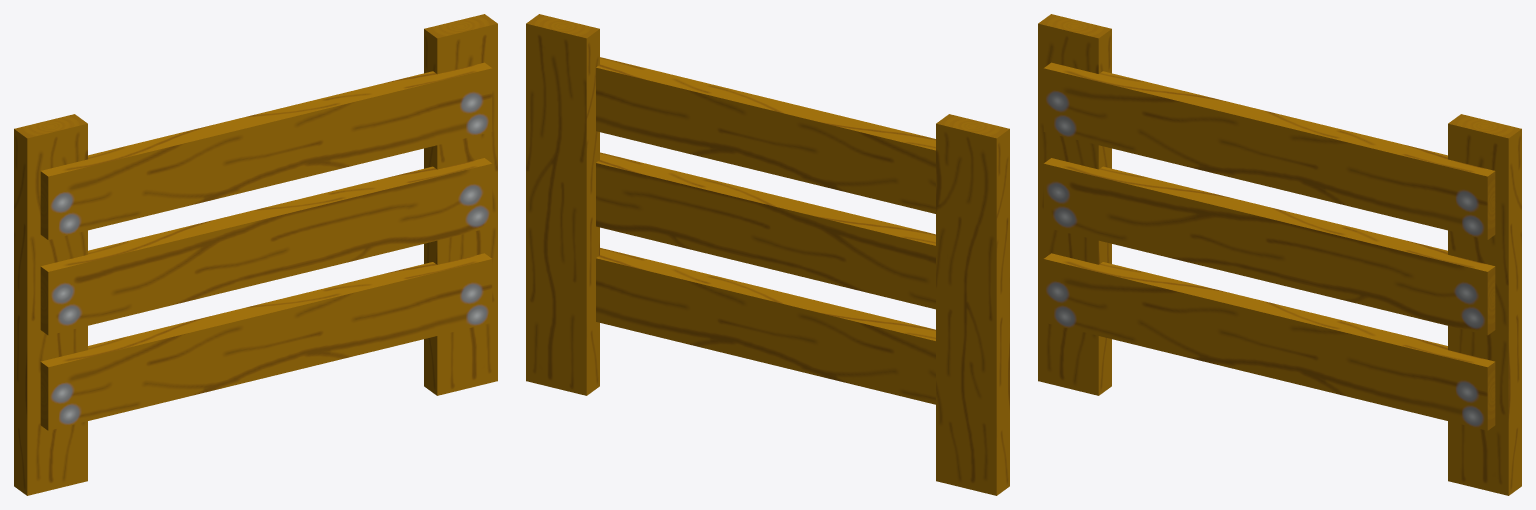
Rendered from Hurdle.fbx.
3 views of the same model, side by side, from view 1: azimuth 30°, elevation 25°; view 2: azimuth 150°, elevation 25°; view 3: azimuth 330°, elevation 25° (orthographic).
Visible parts, largest first — view 1: PostL, PlankL2, PlankL1, PlankL, PlankR, PlankR2, PlankR1, PostR; view 2: PostL, PostR, PlankR, PlankR1, PlankR2, PlankL2, PlankL, PlankL1; view 3: PostR, PlankR2, PlankR1, PlankR, PlankL, PlankL2, PlankL1, PostL.
Boxes of the visible parts, x1,y1,x2,y2 form: PostL: (14, 114, 87, 495); PlankL2: (40, 114, 270, 239); PlankL1: (40, 209, 270, 335); PlankL: (40, 304, 270, 430); PlankR: (258, 253, 492, 376); PlankR2: (259, 62, 492, 185); PlankR1: (259, 158, 492, 281); PostR: (424, 14, 497, 395); PostL: (936, 114, 1009, 495); PostR: (526, 14, 599, 395); PlankR: (596, 248, 781, 364); PlankR1: (596, 152, 781, 268); PlankR2: (596, 57, 781, 173); PlankL2: (770, 101, 935, 213); PlankL: (770, 292, 935, 404); PlankL1: (770, 197, 935, 309); PostR: (1448, 114, 1521, 495); PlankR2: (1265, 114, 1495, 239); PlankR1: (1265, 209, 1495, 335); PlankR: (1265, 304, 1495, 430); PlankL: (1043, 253, 1277, 376); PlankL2: (1043, 62, 1276, 185); PlankL1: (1043, 158, 1276, 281); PostL: (1038, 14, 1111, 395).
Bounding box in the file's own units: 310 × 225 × 23.79.
1 material, 1 textured.
